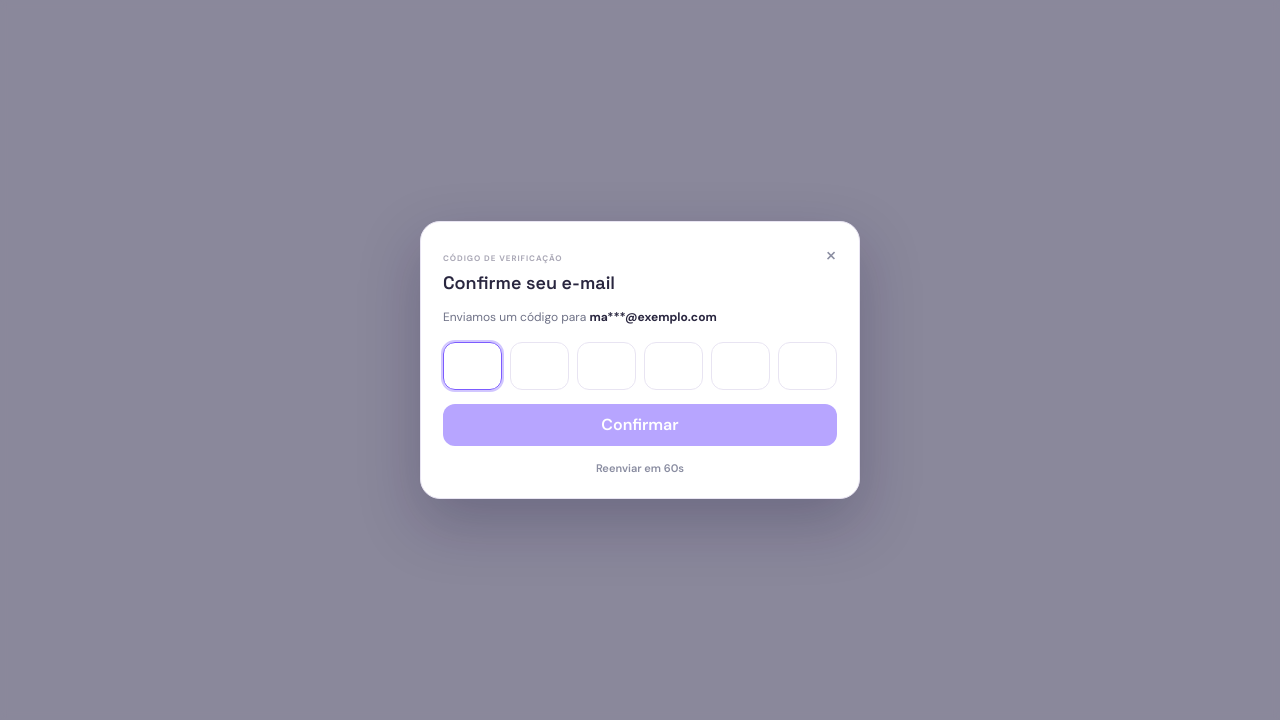
Test: CodeModal › preenche tudo ao colar 123 456
The image size is (1280, 720).
Click the field named "Dígito 4 de 6": (674, 366) left=644, top=342, right=703, bottom=390
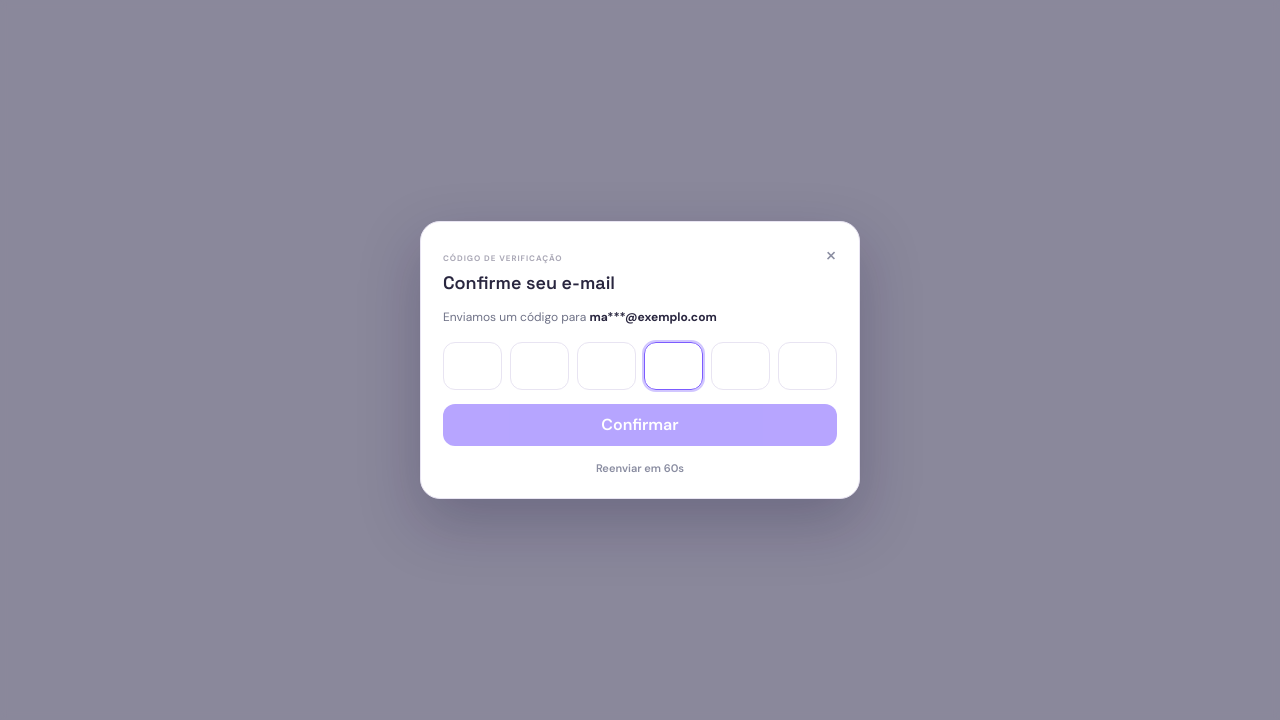
Type keys "123 456"
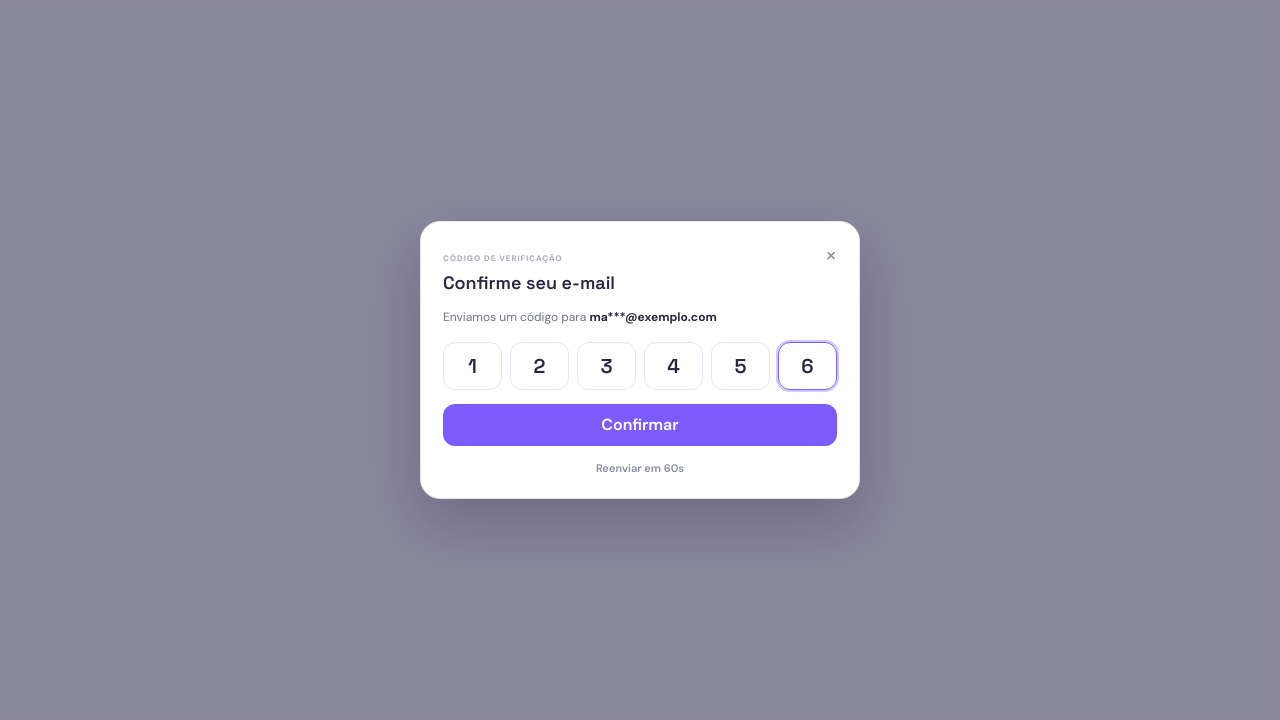
Expected: the button "Confirmar" is enabled, left=443, top=404, right=837, bottom=446
